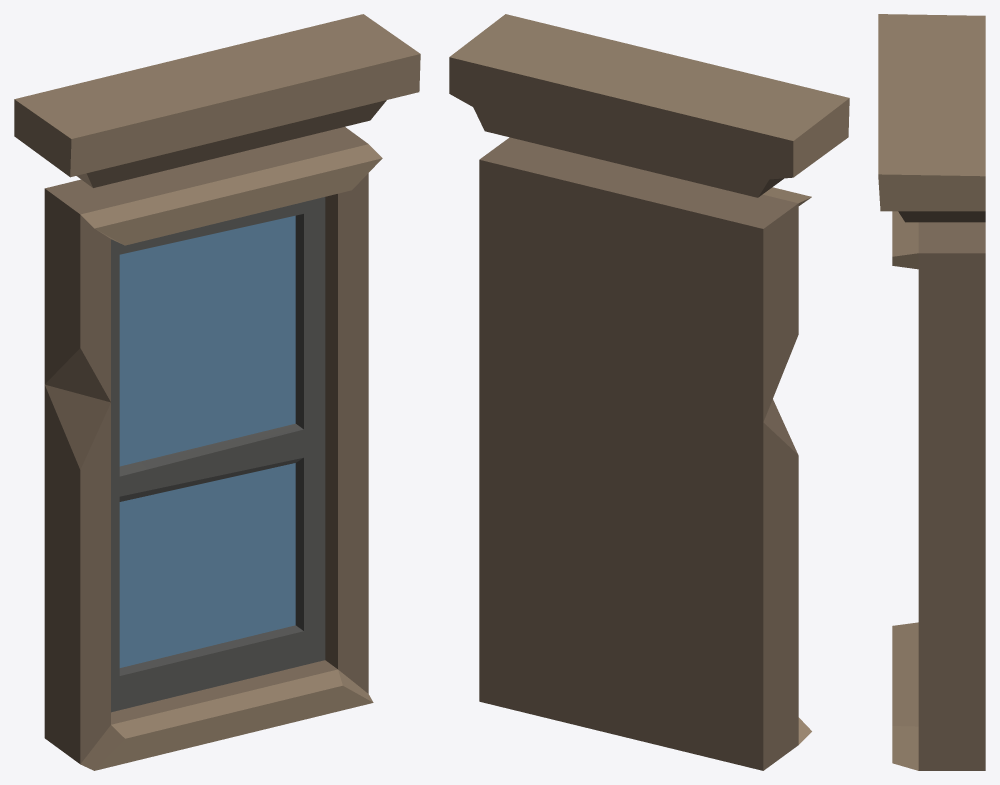
The model's file is SM_Prop_Window_01.obj.
3 views of the same model, side by side, from view 1: azimuth 30°, elevation 25°; view 2: azimuth 150°, elevation 25°; view 3: azimuth 270°, elevation 25° (orthographic). The views are drawn at different scales.
Visible parts, largest first — view 1: SM_Prop_Window_01_0; view 2: SM_Prop_Window_01_0; view 3: SM_Prop_Window_01_0.
Part boxes in pixels (box(x1,y1,x2,y2)): SM_Prop_Window_01_0: box(14, 14, 420, 770); SM_Prop_Window_01_0: box(449, 14, 849, 770); SM_Prop_Window_01_0: box(878, 14, 985, 770).
Bounding box in the file's own units: 1.3 × 2.31 × 0.3696.
Materials: 1 (1 with a texture image).
